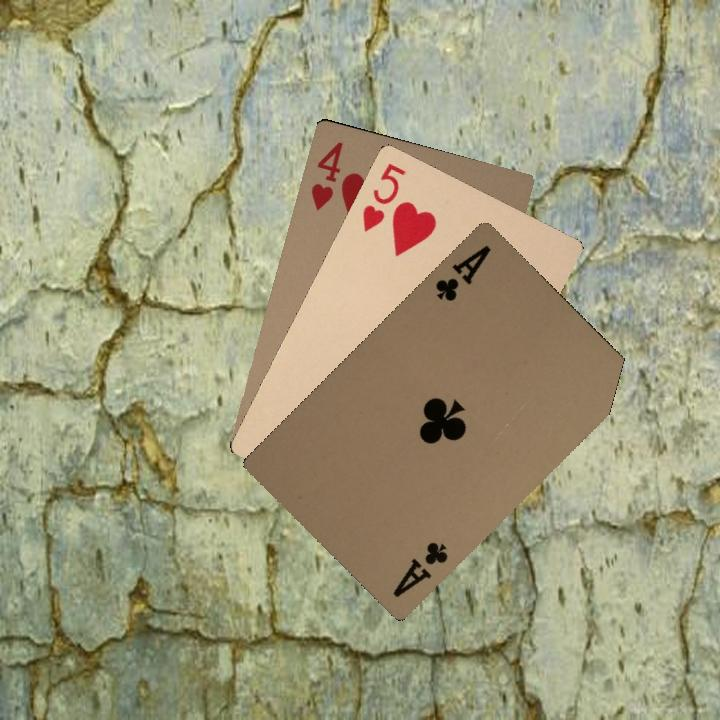4h: (307, 137, 346, 213)
5h: (358, 159, 408, 235)
Ac: (388, 537, 453, 601), (431, 241, 494, 304)
